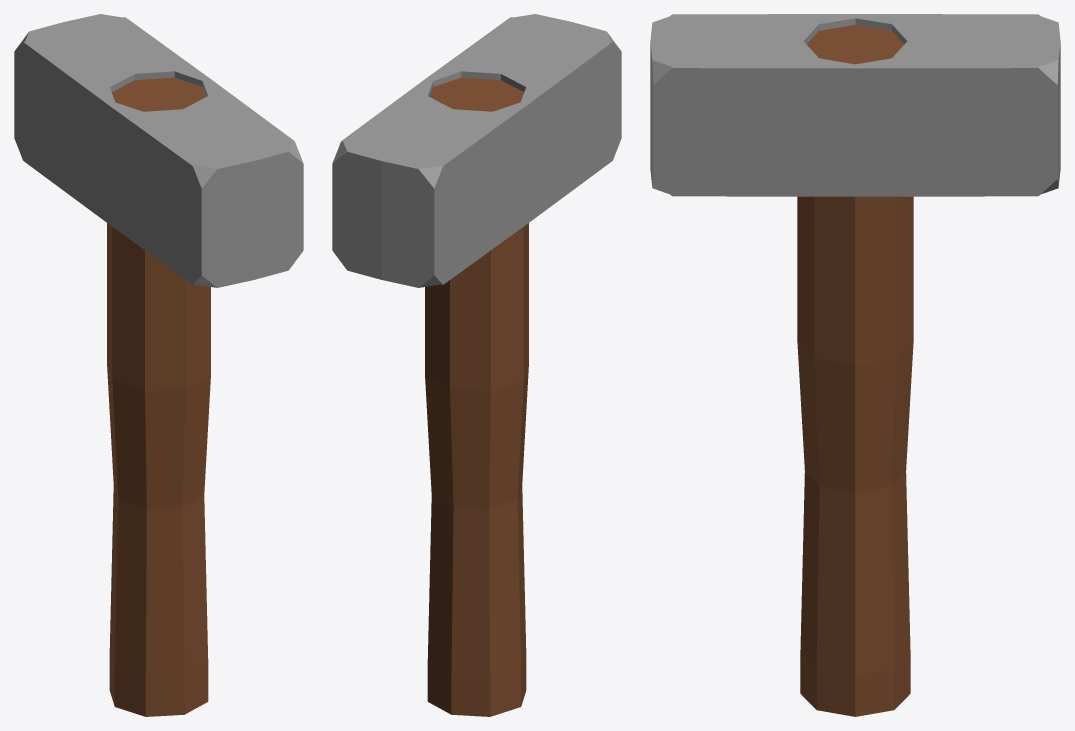
The model's file is hammer01.fbx.
3 views of the same model, side by side, from view 1: azimuth 30°, elevation 25°; view 2: azimuth 150°, elevation 25°; view 3: azimuth 270°, elevation 25° (orthographic). The views are drawn at different scales.
Parts seen in each view (by area): view 1: Cylinder; view 2: Cylinder; view 3: Cylinder.
Part boxes in pixels (left/top/right/bottom): Cylinder: left=14, top=14, right=303, bottom=716; Cylinder: left=332, top=14, right=621, bottom=716; Cylinder: left=650, top=14, right=1060, bottom=716.
Bounding box in the file's own units: 0.0455 × 0.2542 × 0.1449.
1 material, 1 textured.
